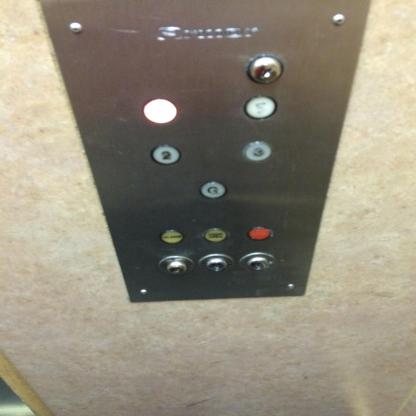2: (149, 144, 181, 166)
3: (242, 140, 272, 162)
G: (198, 181, 226, 199)
blur: (243, 94, 277, 120)
empty: (142, 98, 177, 124)
keyhole: (245, 54, 283, 84), (157, 256, 195, 276), (239, 252, 275, 273), (198, 254, 233, 275)
text_blur: (246, 226, 274, 241), (203, 228, 228, 244), (160, 229, 182, 244)
